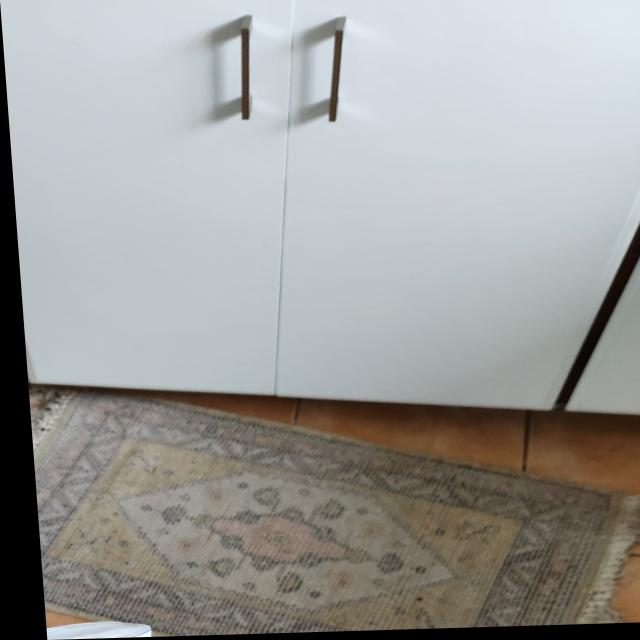salt: (36, 619, 186, 639)
